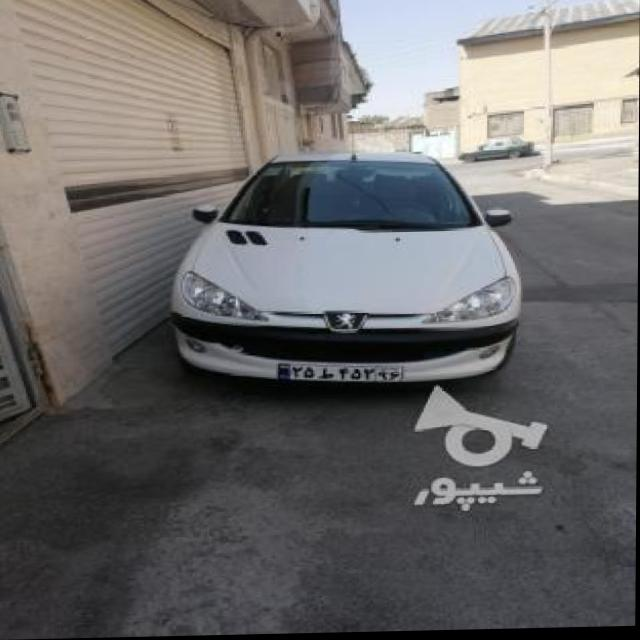licence: (275, 359, 402, 386)
